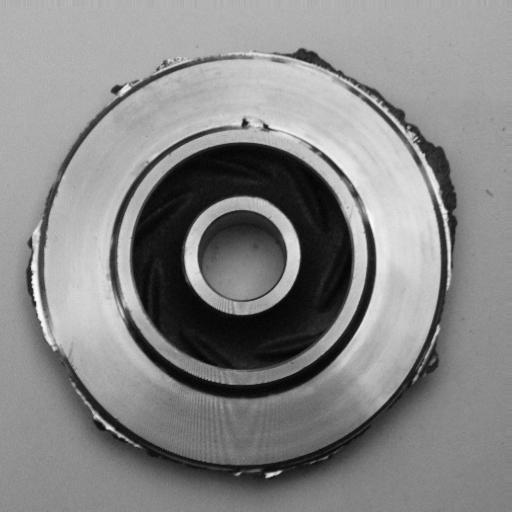casting_with_burr: (27, 45, 459, 487)
crack: (228, 106, 284, 148)
scratch: (103, 255, 138, 328)
